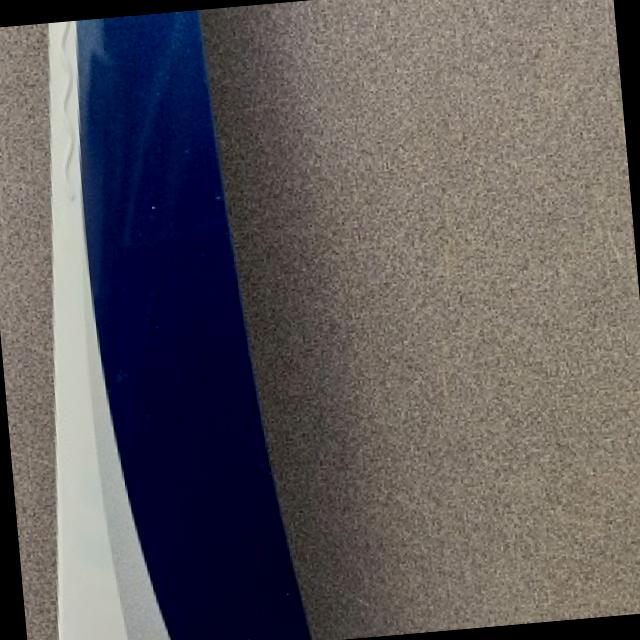healthy: (52, 9, 309, 640), (0, 23, 56, 640)
